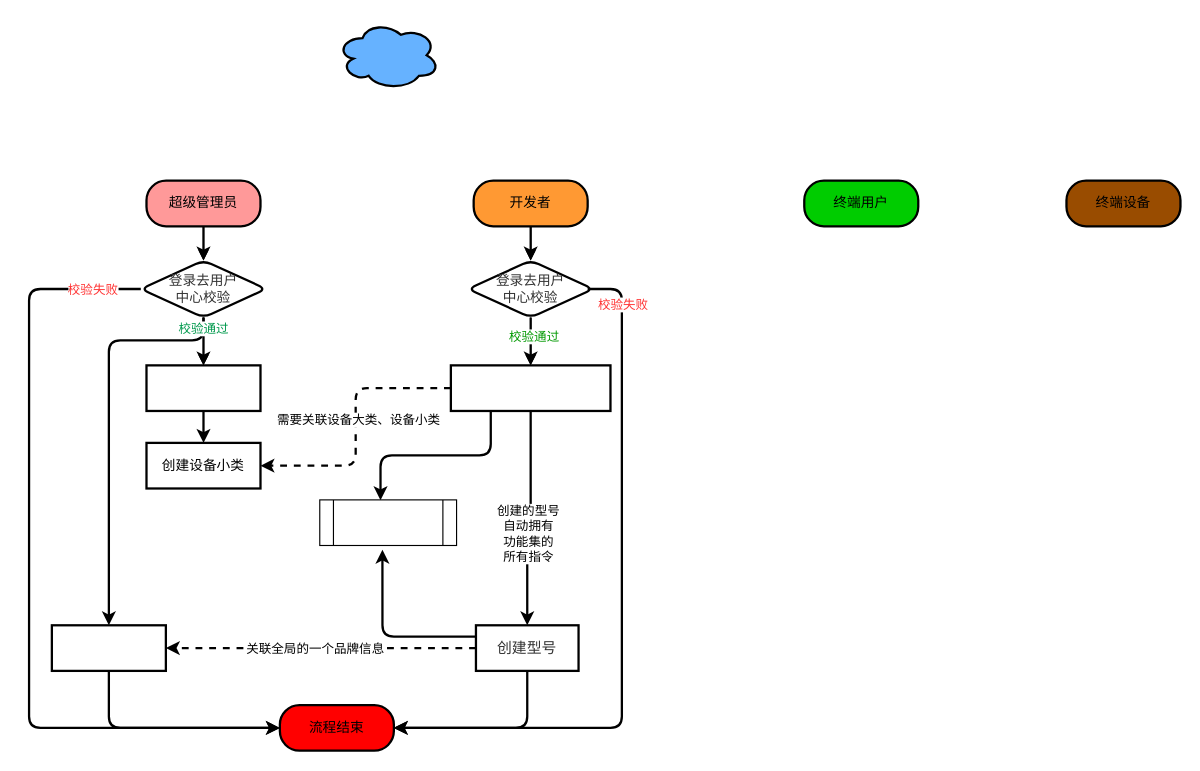
This 1200x771 diagram has some shape labels left out. Each missing label, with the centre of its shape:
"关联多个指令集" goes at pixel 388 522.
"创建全局品牌" goes at pixel 108 647.
"创建自己的通用功能集" goes at pixel 530 388.
"创建设备大类" goes at pixel 203 388.
"用户中心" goes at pixel 387 54.
